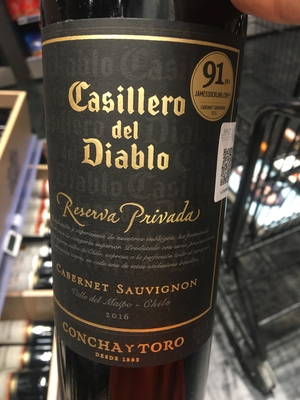casillero del diablo reserva privada cabernet sauvignon: (39, 7, 252, 390)
